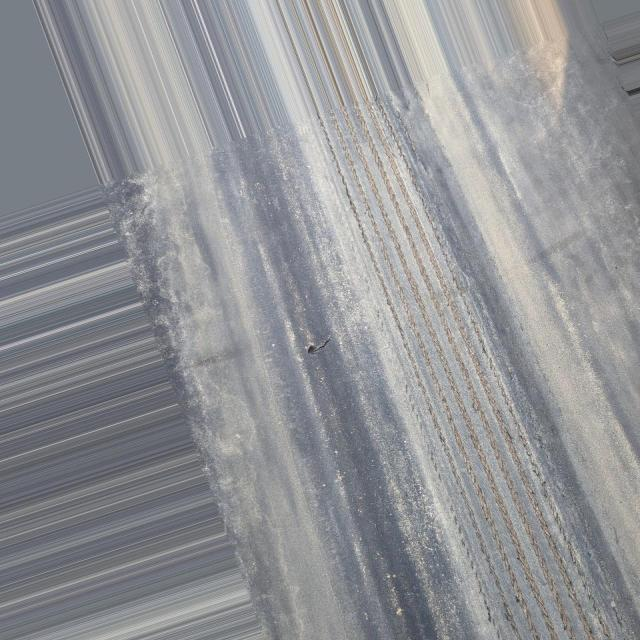impact damage: (270, 0, 640, 640)
